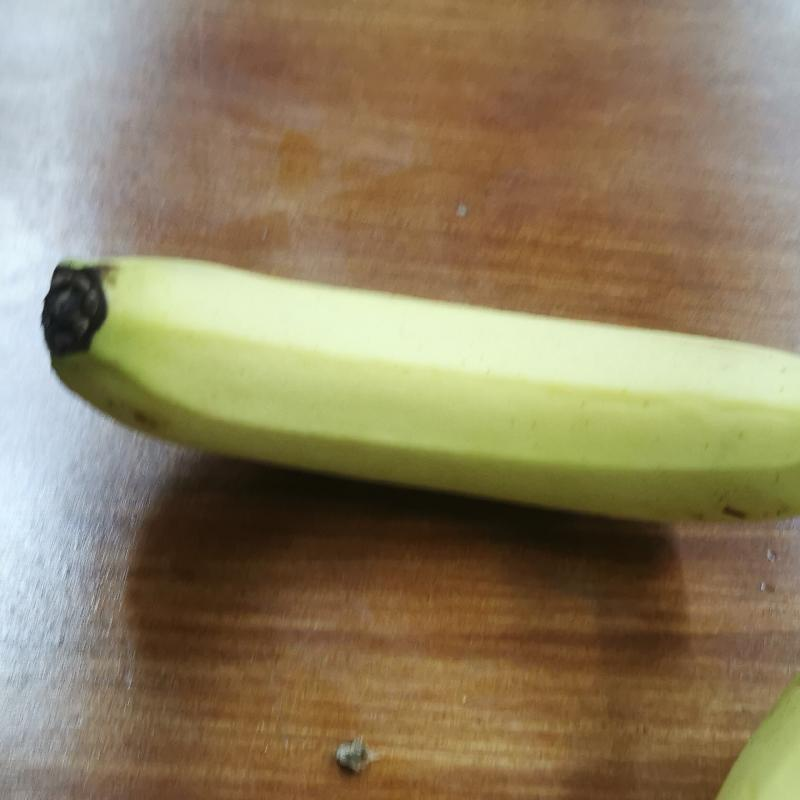bananas: (47, 226, 800, 534)
